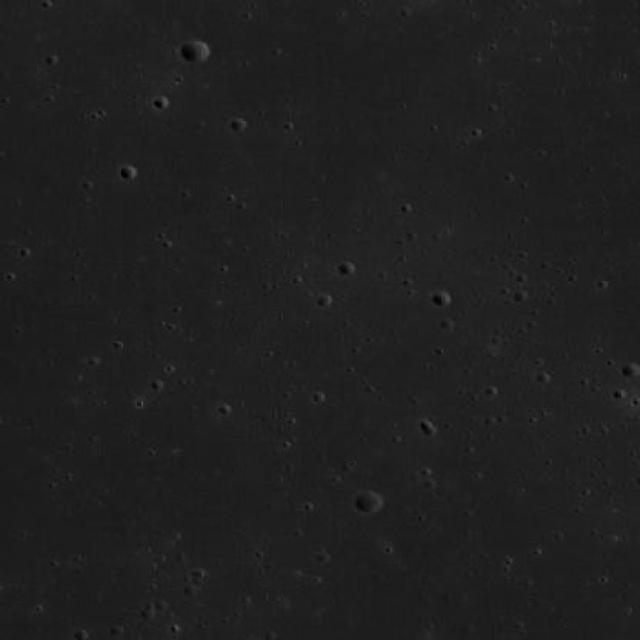crater: (355, 491, 383, 514), (182, 42, 210, 64), (430, 292, 452, 308)
